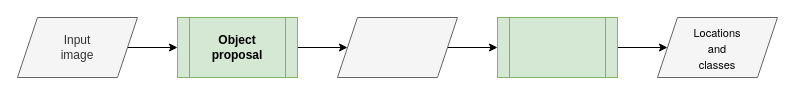
Some shapes in this 795 by 95 pixel diagram are drawn without their labels. The shapes that lost their labels are listed below. From the top down, each one's box as (x1, y1, x2, y2) in pixels, then its label:
(336, 16, 458, 78): Region of Interests (ROIs)
(496, 16, 618, 78): Logo classification
